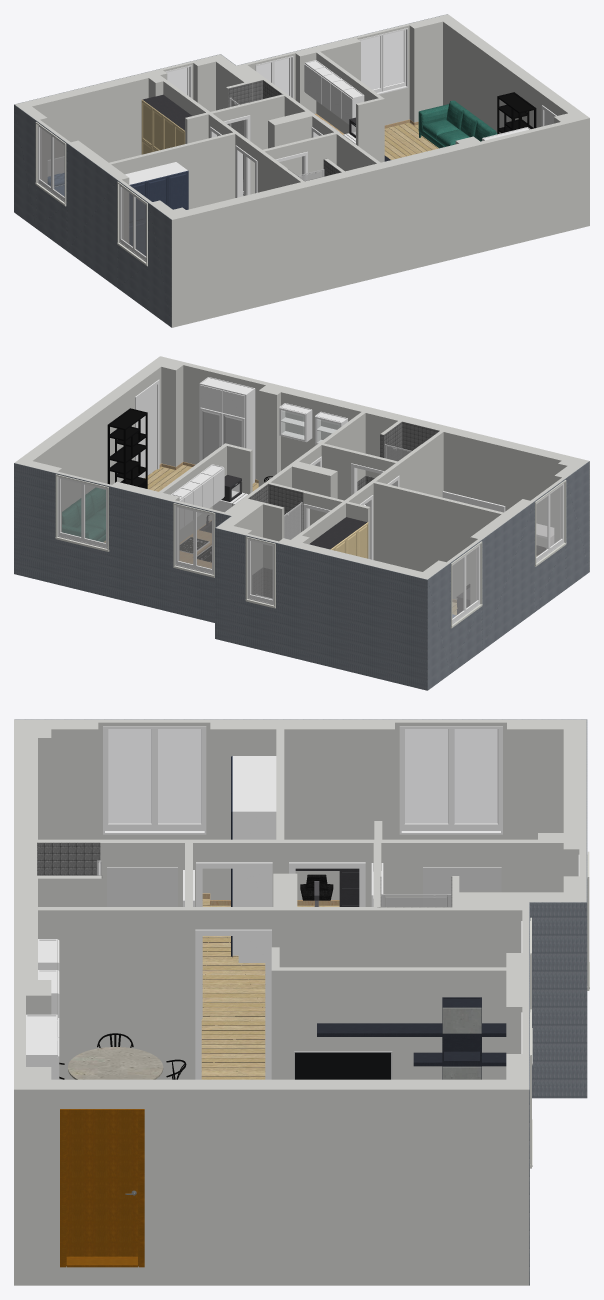
Rendered from apartment.glb.
3 views of the same model, one above another, from view 1: azimuth 30°, elevation 25°; view 2: azimuth 150°, elevation 25°; view 3: azimuth 270°, elevation 25° (orthographic). The views are drawn at different scales.
Parts seen in each view (by area): view 1: Object_67, Object_68, Object_44, Object_73, Object_13, Object_61, Object_45, Object_62, Object_64, Object_18, Object_35, Object_46 (+3 smaller); view 2: Object_68, Object_67, Object_44, Object_73, Object_58, Object_35, Object_45, Object_46, Object_18, Object_13, Object_10, Object_60 (+8 smaller); view 3: Object_67, Object_44, Object_43, Object_68, Object_64, Object_73, Object_58, Object_45, Object_53, Object_55, Object_12, Object_25 (+6 smaller).
Boxes of the visible parts, x1,y1,x2,y2 form: Object_67: [15, 14, 589, 327]; Object_68: [14, 14, 447, 327]; Object_44: [40, 30, 403, 256]; Object_73: [37, 28, 407, 261]; Object_13: [418, 100, 497, 148]; Object_61: [129, 170, 188, 255]; Object_45: [210, 105, 556, 197]; Object_62: [141, 99, 185, 154]; Object_64: [384, 122, 438, 159]; Object_18: [497, 92, 536, 134]; Object_35: [217, 80, 341, 181]; Object_46: [35, 122, 147, 266]; Object_68: [14, 461, 589, 690]; Object_67: [14, 356, 589, 604]; Object_44: [60, 479, 561, 618]; Object_73: [57, 403, 564, 624]; Object_58: [199, 377, 255, 483]; Object_35: [248, 421, 439, 598]; Object_45: [135, 379, 399, 559]; Object_46: [55, 474, 566, 628]; Object_18: [107, 408, 147, 488]; Object_13: [62, 487, 105, 541]; Object_10: [202, 410, 242, 459]; Object_60: [309, 517, 469, 614]; Object_67: [14, 719, 586, 1285]; Object_44: [108, 729, 497, 823]; Object_43: [60, 1109, 144, 1267]; Object_68: [15, 719, 587, 1285]; Object_64: [201, 899, 339, 1079]; Object_73: [38, 726, 579, 1053]; Object_58: [26, 756, 276, 1079]; Object_45: [183, 862, 383, 1079]; Object_53: [107, 867, 501, 906]; Object_55: [317, 1023, 506, 1066]; Object_12: [68, 1047, 163, 1079]; Object_25: [295, 1052, 390, 1079].
Size of the model in its own units: 1108 by 272 by 724.
55 materials, 27 textured.
